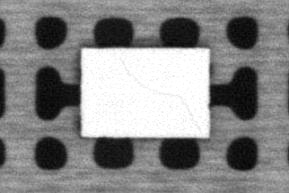DIE_CRACK: (120, 59, 202, 131)
